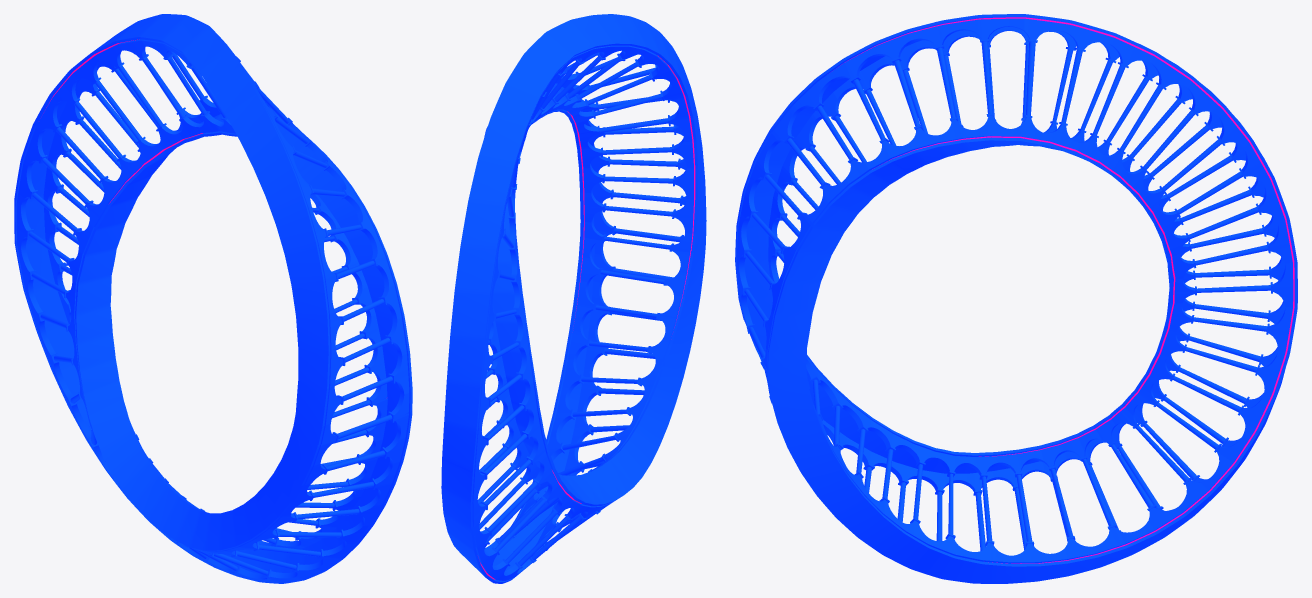
Rendered from moebius_1.fbx.
3 renders of one model, left to right at view 1: azimuth 30°, elevation 25°; view 2: azimuth 150°, elevation 25°; view 3: azimuth 270°, elevation 25°, orthographic. The views are drawn at different scales.
Parts seen in each view (by area): view 1: moebius_1rd; view 2: moebius_1rd; view 3: moebius_1rd.
Part boxes in pixels (box(x1,y1,x2,y2)): moebius_1rd: box(14, 14, 412, 583); moebius_1rd: box(441, 14, 706, 583); moebius_1rd: box(735, 14, 1297, 583).
Size of the model in its own units: 245 by 866 by 786.
